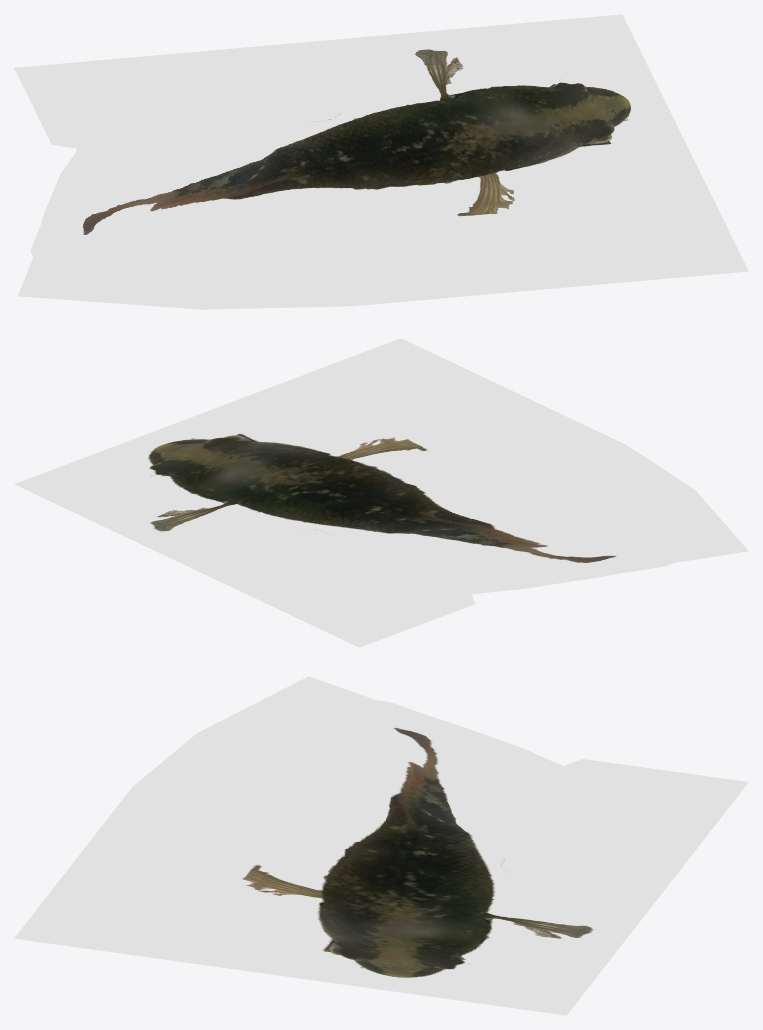
The model's file is aaa.fbx.
3 views of the same model, one above another, from view 1: azimuth 30°, elevation 25°; view 2: azimuth 150°, elevation 25°; view 3: azimuth 270°, elevation 25° (orthographic). The views are drawn at different scales.
Visible parts, largest first — view 1: pPlane1; view 2: pPlane1; view 3: pPlane1.
Boxes of the visible parts, x1,y1,x2,y2 form: pPlane1: [14, 14, 748, 309]; pPlane1: [14, 338, 748, 647]; pPlane1: [14, 676, 748, 1015].
Size of the model in its own units: 30.49 by 6.58e-07 by 27.9.
1 material, 1 textured.
